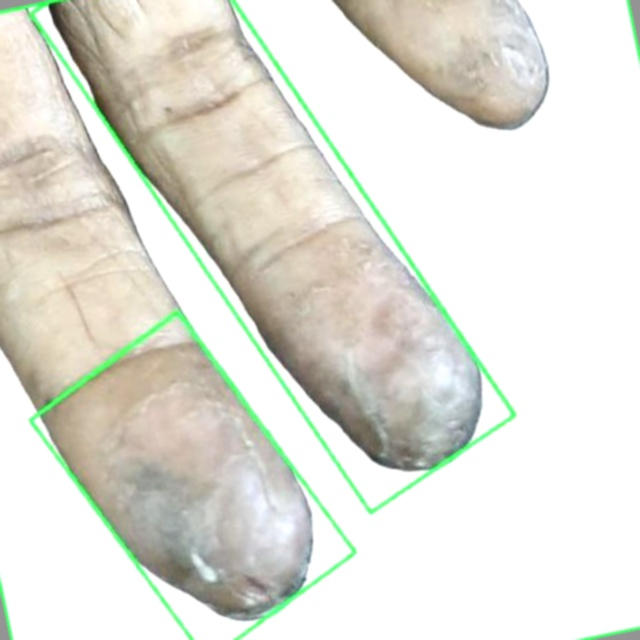Contact Dermatitis: (0, 0, 639, 639), (32, 0, 515, 513), (31, 311, 356, 639)
